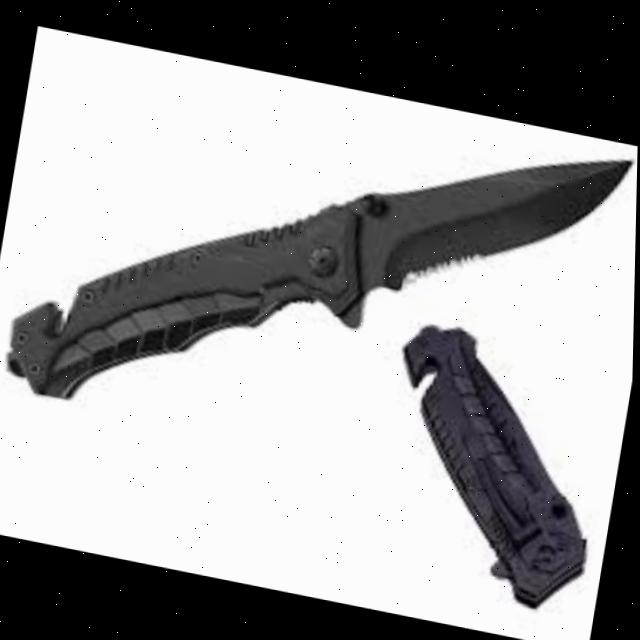knife: (2, 37, 639, 497)
